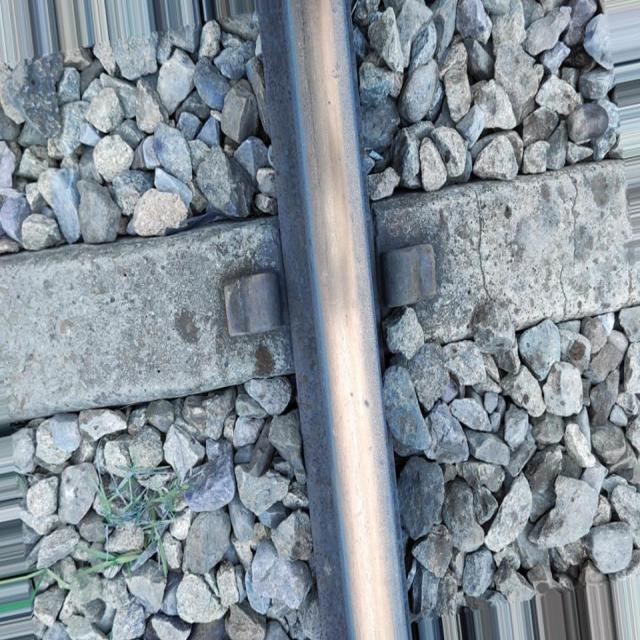Missing Fastener: (200, 242, 293, 362), (373, 231, 464, 329)
